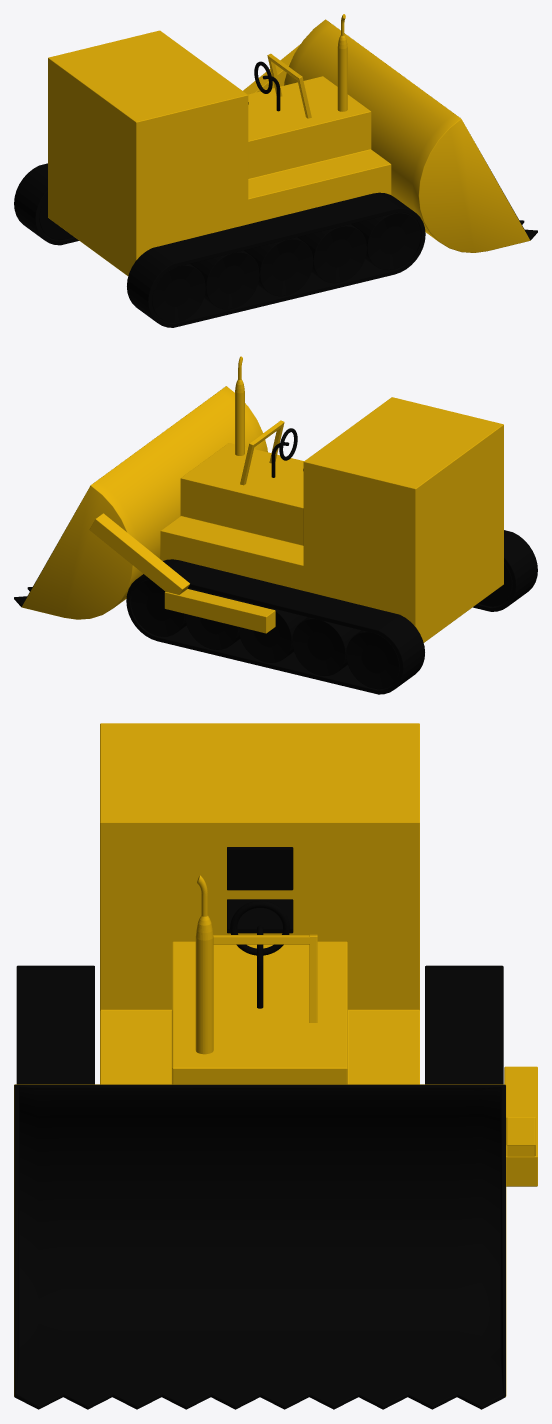
Rendered from buldozer.fbx.
The picture shows the model from 3 angles, top to bottom: view 1: azimuth 30°, elevation 25°; view 2: azimuth 150°, elevation 25°; view 3: azimuth 270°, elevation 25°; orthographic projection. The views are drawn at different scales.
Parts seen in each view (by area): view 1: Cube; view 2: Cube; view 3: Cube.
Part boxes in pixels (x1,y1,x2,y2): Cube: (14,14,537,327); Cube: (14,356,537,694); Cube: (14,723,537,1409).
Size of the model in its own units: 938 by 507 by 594.
